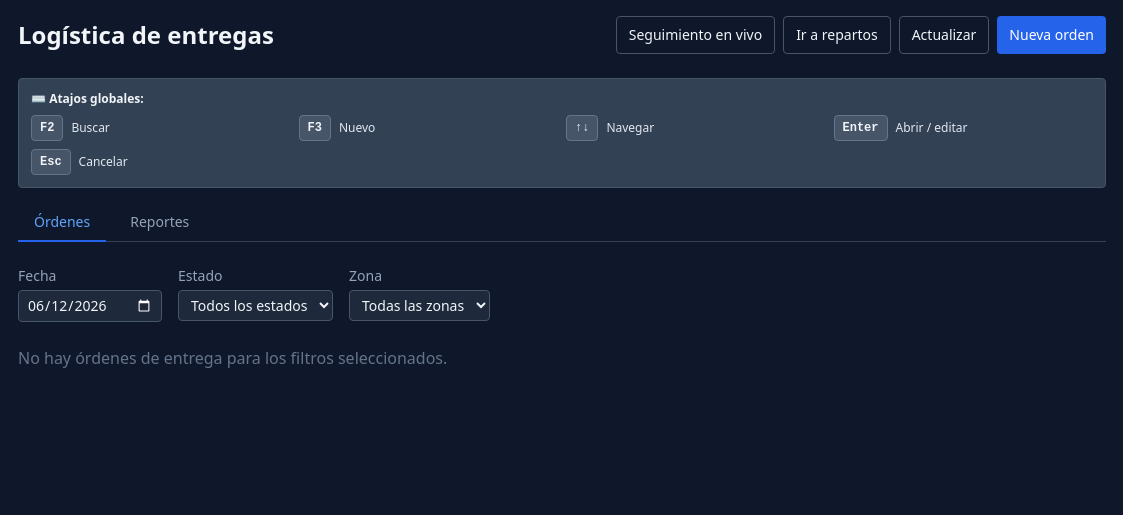
Test: LogisticaPage › loads orders tab and switches to reportes panel
The image size is (1123, 515).
What coordinates should you click on to do the following:
click the tab with test id "logistica-tab-reportes"
I would click on:
 (160, 223)
Its box is [114,204,205,242].
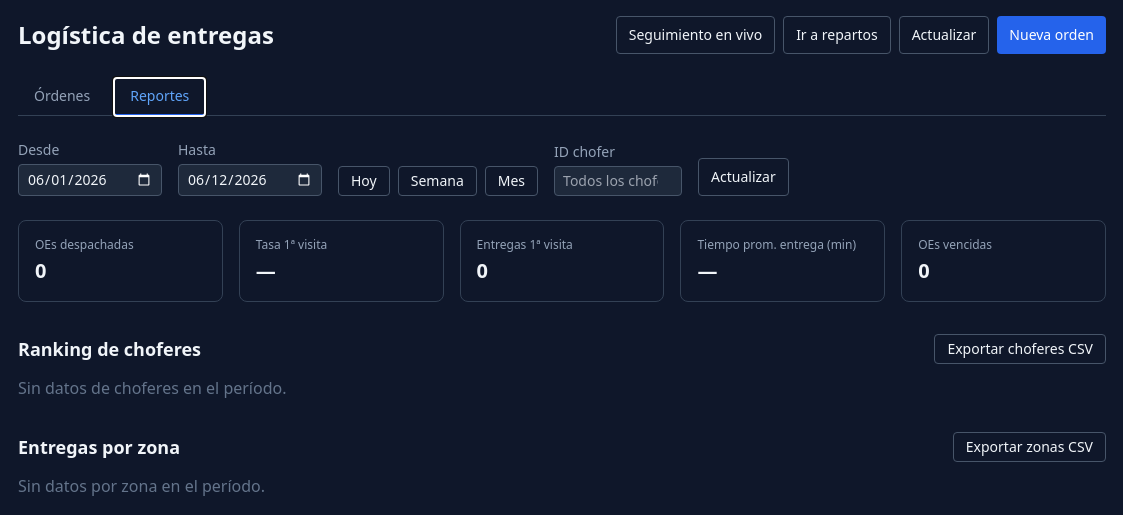
Expected: the element with test id "logistica-reportes-panel" is shown
What coordinates should you click on to do the following:
click the tab with test id "logistica-tab-ordenes"
I would click on:
 (62, 97)
Its box is [18,78,106,116].
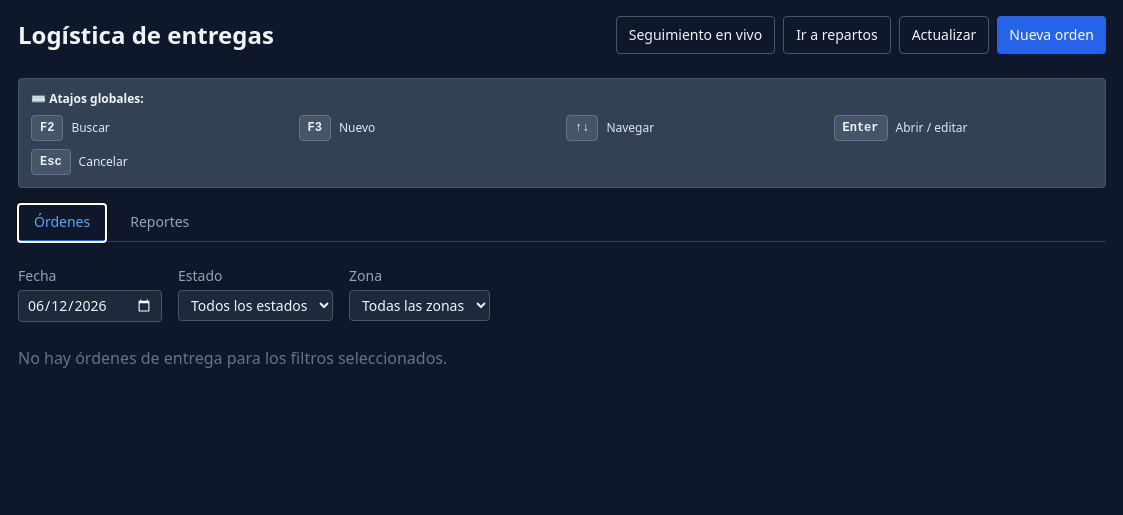
Expected: the element with test id "logistica-filters" is shown, [18,266,490,322]
